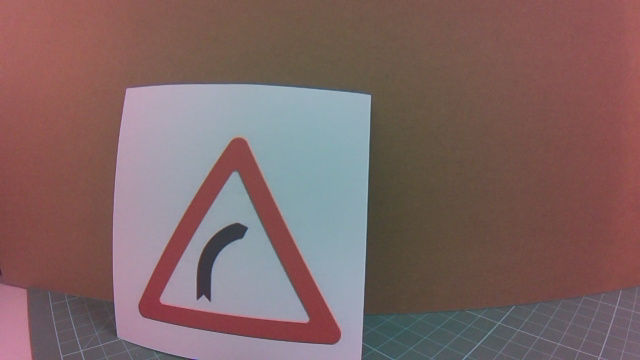right: (131, 164, 331, 340)
